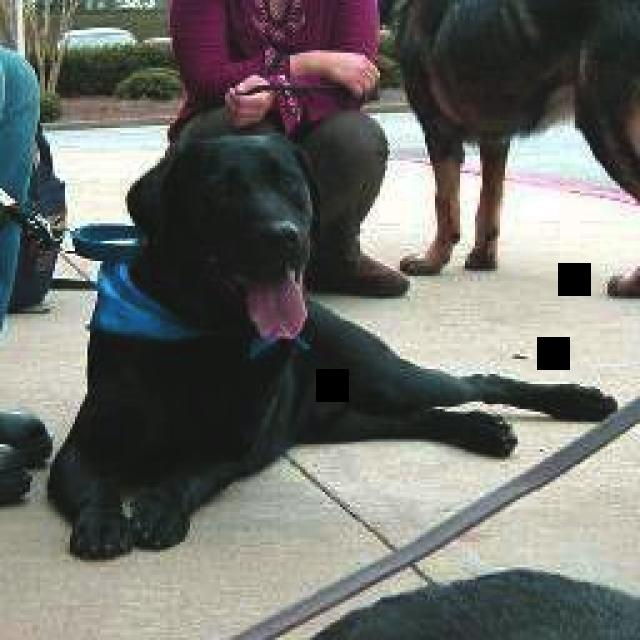adult_dog: (46, 119, 619, 562), (392, 1, 640, 299)
